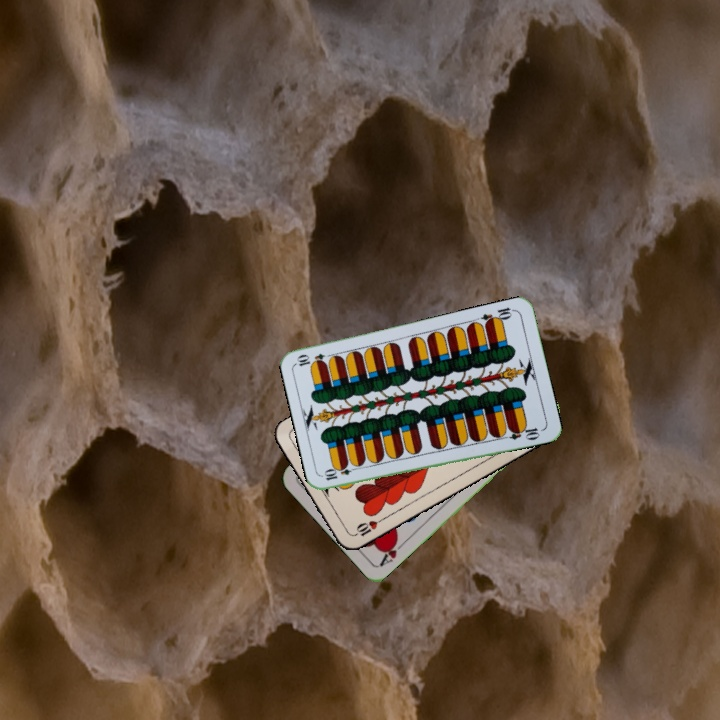E10: (477, 303, 517, 328), (320, 462, 361, 483)
H10: (348, 514, 386, 539)
HA: (376, 535, 408, 569)
